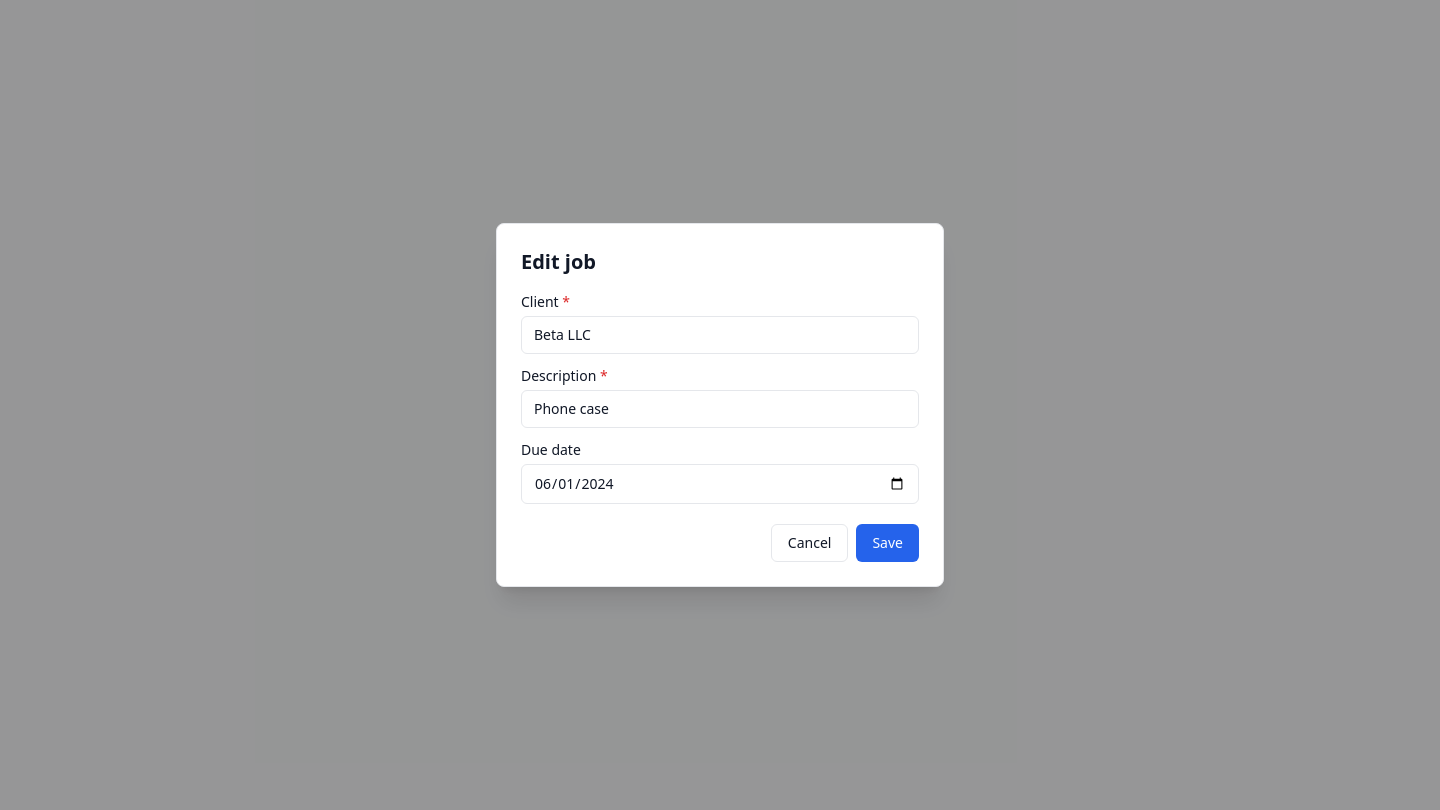
it: CreateJobDialog › surfaces the service error when the edited job vanished
The width and height of the screenshot is (1440, 810).
Click the button "Save" at (888, 543), box [856,524,919,562]
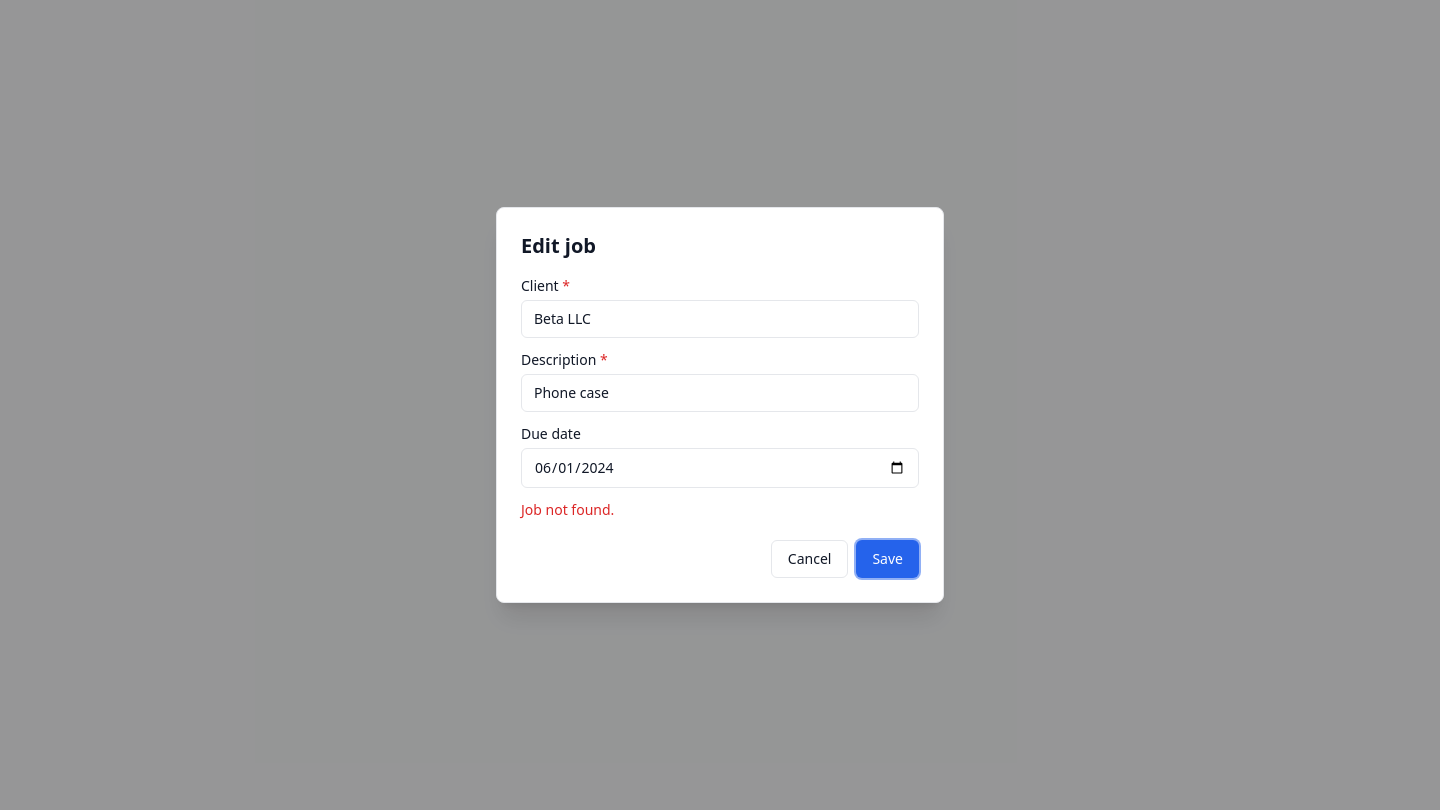
Now the message reads "Job not found.", box [521,500,614,519]
